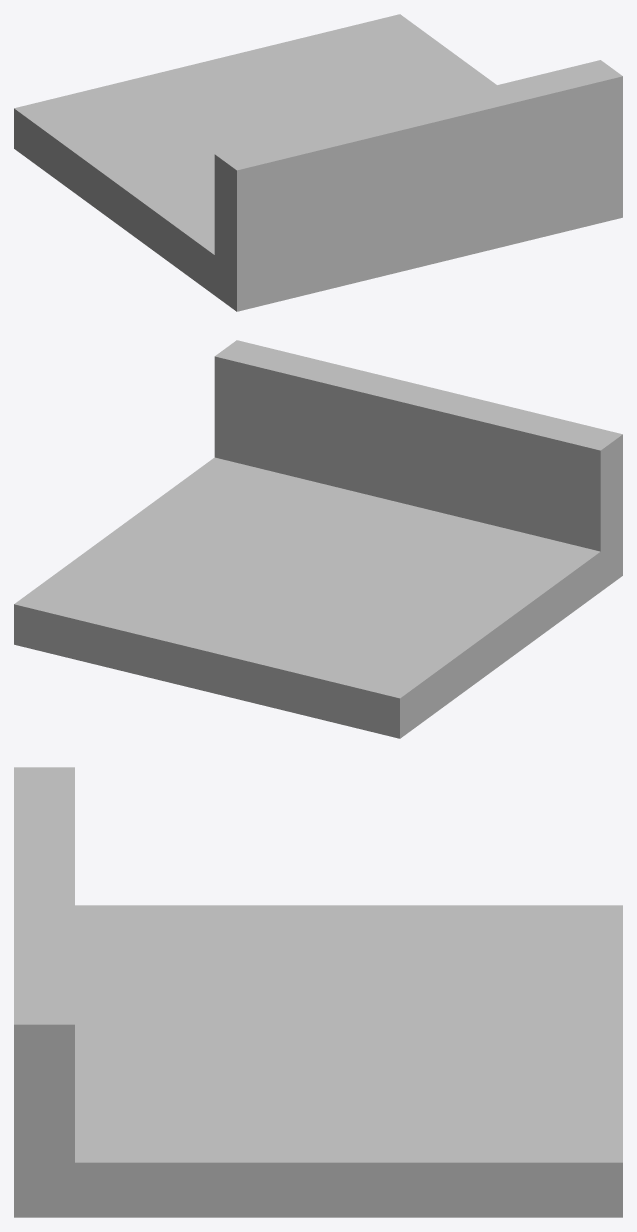
File: MetalRoof_1Edge_Small.glb
3 views of the same model, one above another, from view 1: azimuth 30°, elevation 25°; view 2: azimuth 150°, elevation 25°; view 3: azimuth 270°, elevation 25° (orthographic). The views are drawn at different scales.
Visible parts, largest first — view 1: roof_flat_1Edges_small_metal; view 2: roof_flat_1Edges_small_metal; view 3: roof_flat_1Edges_small_metal.
Boxes of the visible parts, bbox=[...] form: roof_flat_1Edges_small_metal: bbox=[14, 14, 622, 311]; roof_flat_1Edges_small_metal: bbox=[14, 340, 622, 738]; roof_flat_1Edges_small_metal: bbox=[14, 767, 622, 1217].
Size of what is drawn, in the model's own units: 2 by 0.7 by 2.
1 material, 1 textured.
